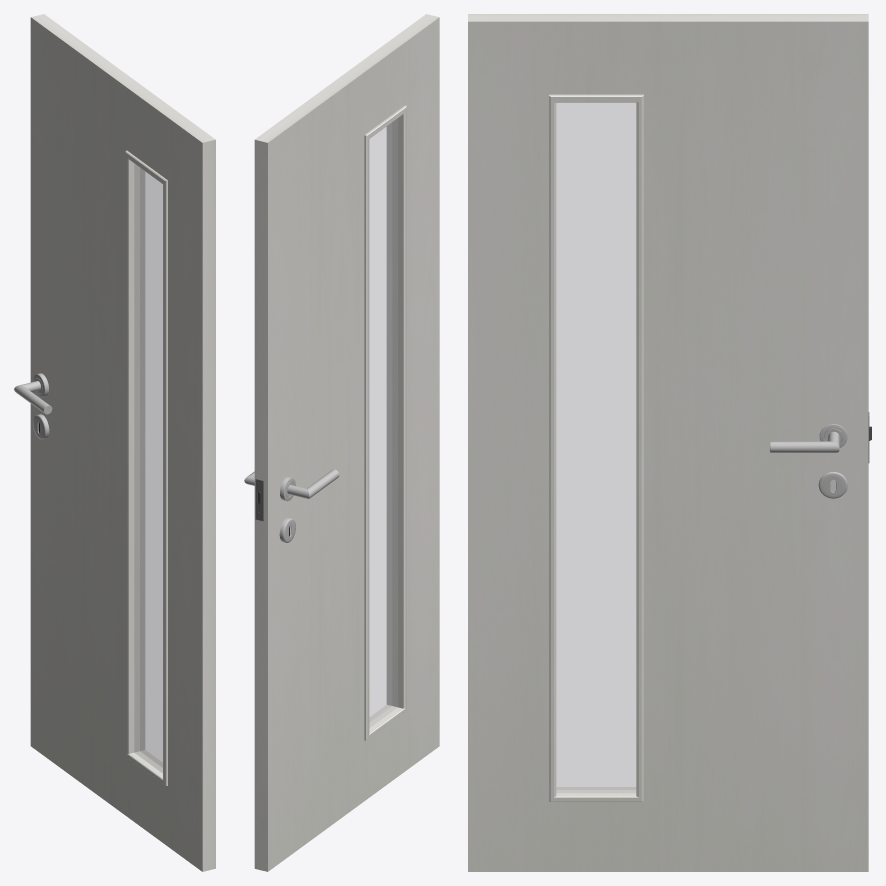
The model's file is door19.glb.
3 renders of one model, left to right at view 1: azimuth 30°, elevation 25°; view 2: azimuth 150°, elevation 25°; view 3: azimuth 270°, elevation 25°, orthographic. The views are drawn at different scales.
Visible parts, largest first — view 1: TB-LA2B, Door_Handle_01; view 2: TB-LA2B, Door_Handle_01; view 3: TB-LA2B, Door_Handle_01.
Part boxes in pixels (x1,y1,x2,y2): TB-LA2B: [30, 14, 215, 871]; Door_Handle_01: [14, 373, 52, 439]; TB-LA2B: [254, 14, 439, 871]; Door_Handle_01: [244, 469, 339, 542]; TB-LA2B: [468, 14, 871, 871]; Door_Handle_01: [770, 424, 847, 498].
Size of the model in its own units: 0.1566 by 1.67 by 0.7186.
Materials: 6 (1 with a texture image).
